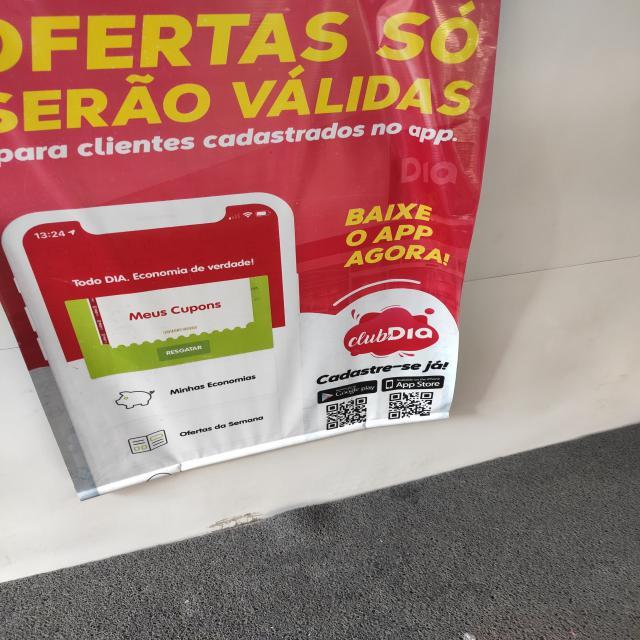qrcode: (327, 398, 368, 431), (390, 393, 434, 420)
